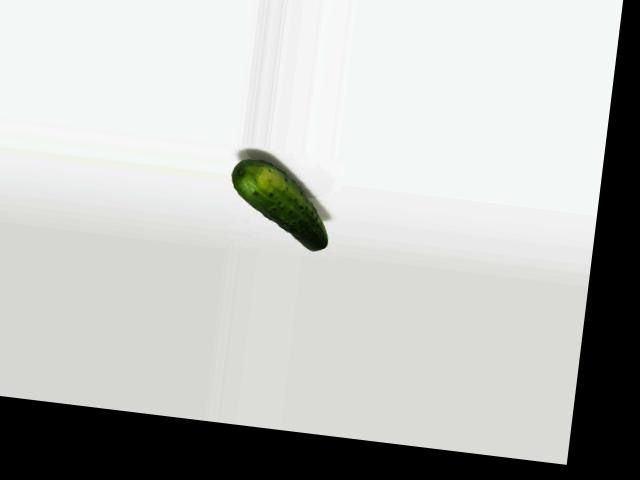cucumber: (225, 157, 337, 252)
